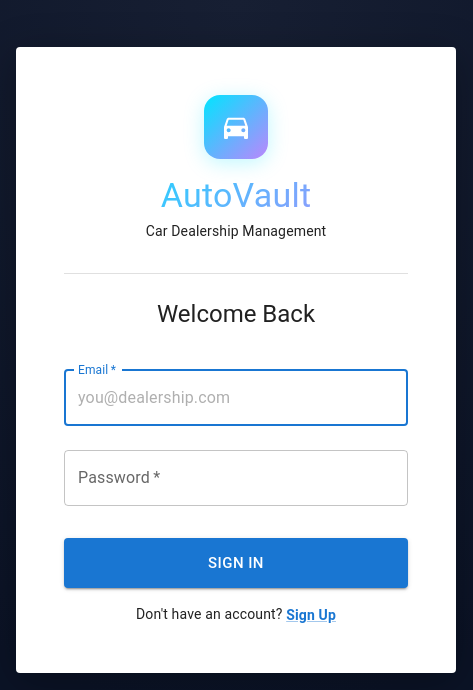
Scenario: LoginPage › toggles to register mode when "Sign Up" link is clicked
Click the button "Sign Up" at (311, 615), box [286,605,336,625]
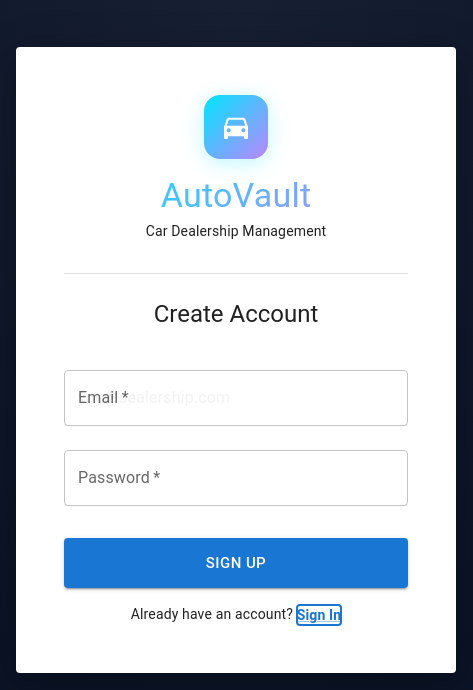
Now the heading "Create Account" is shown, box [154,300,318,328]
Now the button "Sign Up" is shown, box [64,538,408,588]
